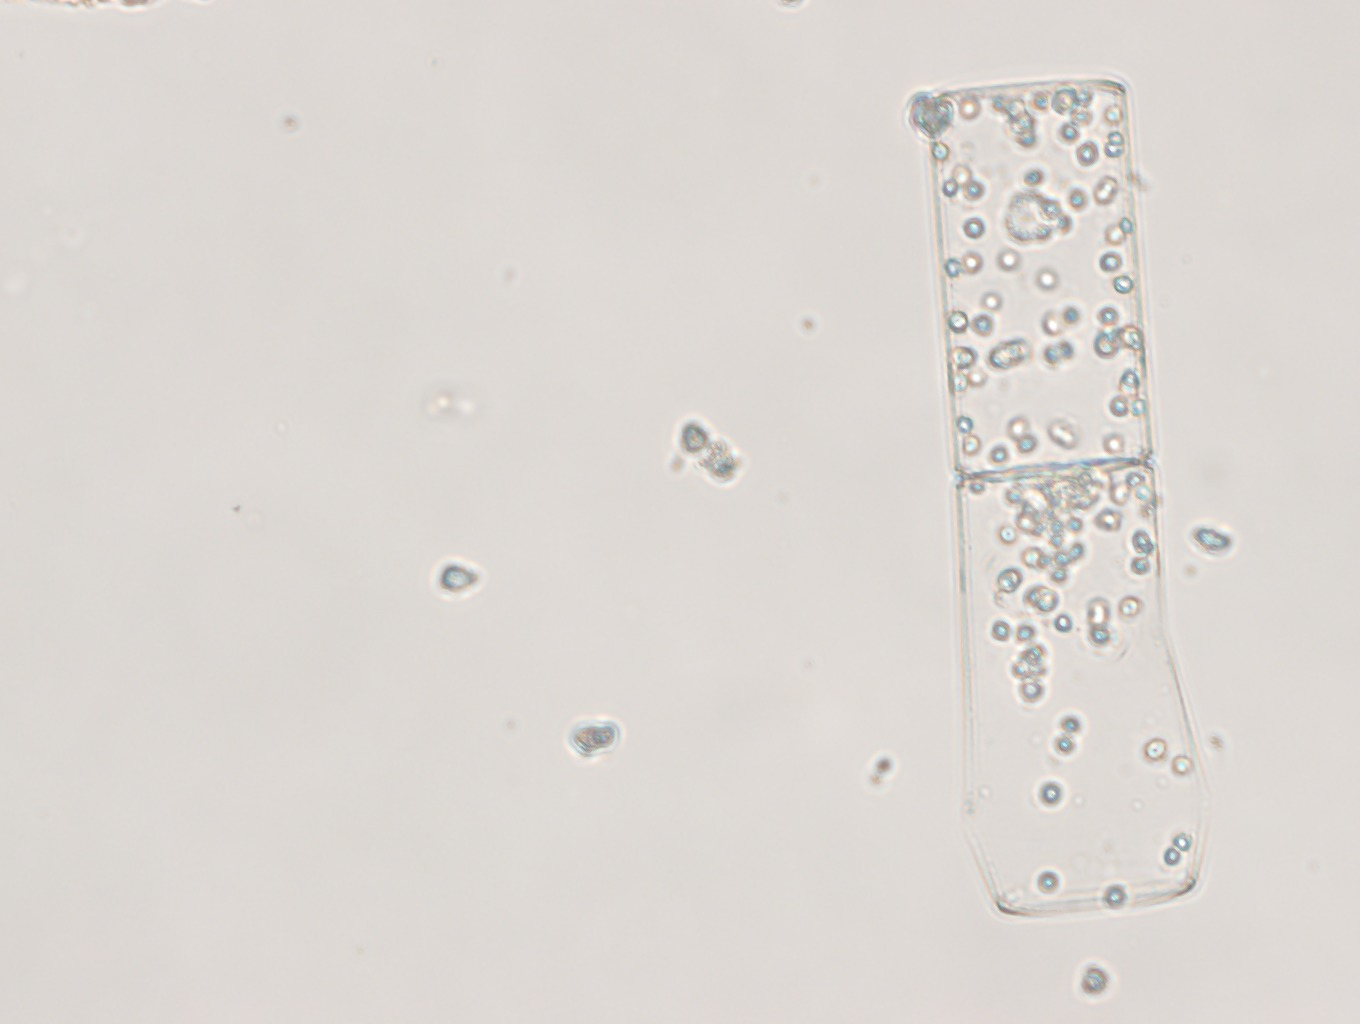guinardia flaccida: (926, 77, 1204, 922)
